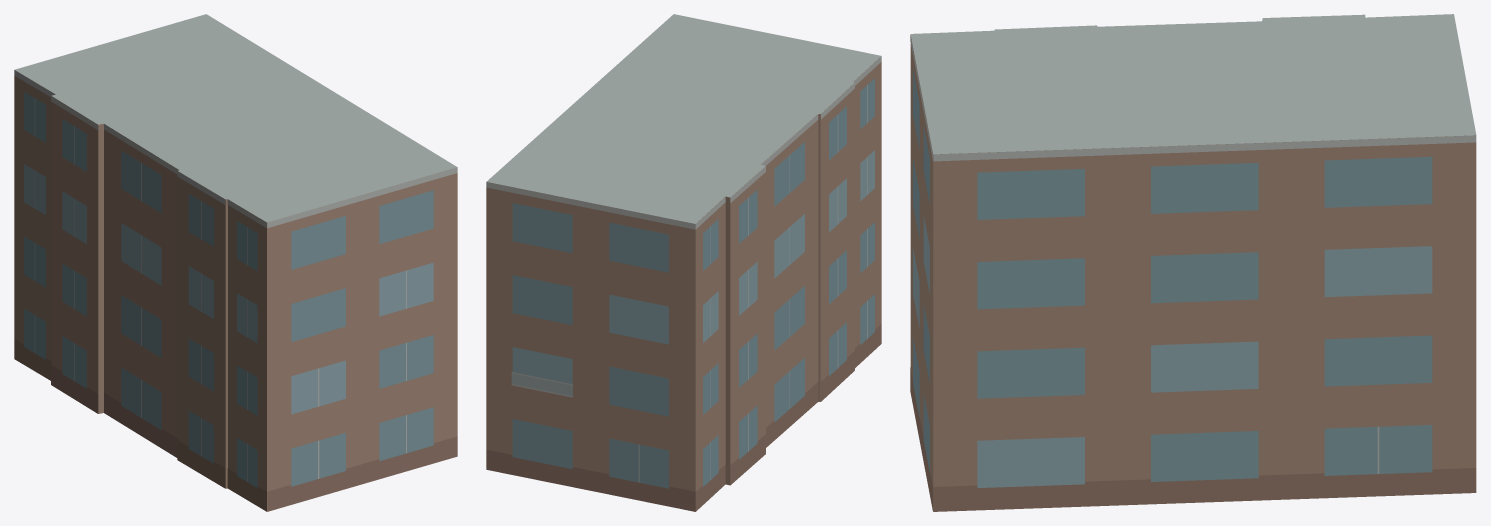
The model's file is survey-upis-32903893.glb.
The picture shows the model from 3 angles, left to right: view 1: azimuth 30°, elevation 25°; view 2: azimuth 150°, elevation 25°; view 3: azimuth 270°, elevation 25°; orthographic projection. The views are drawn at different scales.
Visible parts, largest first — view 1: survey-upis-32903893.tmp; view 2: survey-upis-32903893.tmp; view 3: survey-upis-32903893.tmp.
Part boxes in pixels (<box>): survey-upis-32903893.tmp: <box>14,14,457,511</box>; survey-upis-32903893.tmp: <box>486,14,881,511</box>; survey-upis-32903893.tmp: <box>910,14,1476,511</box>.
Size of the model in its own units: 10.37 by 12.3 by 17.66.
